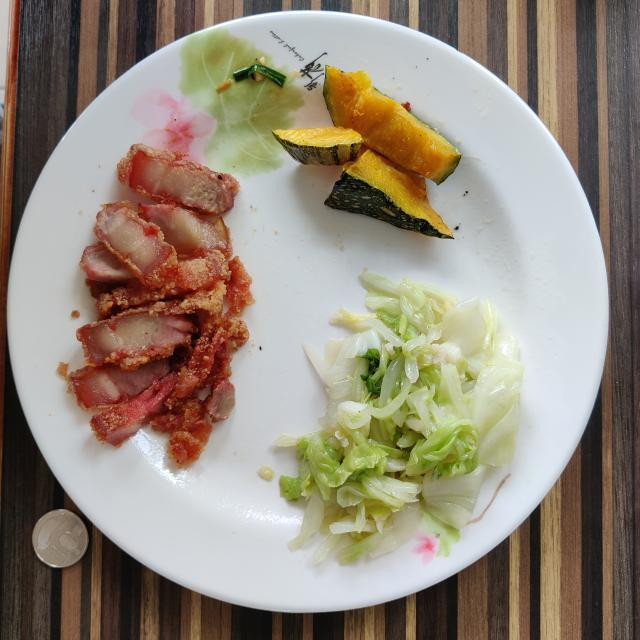cabbage: (276, 272, 524, 562)
coin: (32, 509, 89, 568)
pumpkin: (272, 66, 461, 239)
red grilled pork: (68, 144, 254, 468)
